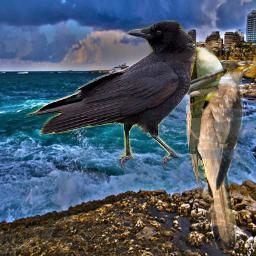Crow: (25, 20, 198, 169)
Cuckoo: (186, 60, 255, 252), (186, 41, 224, 154)
